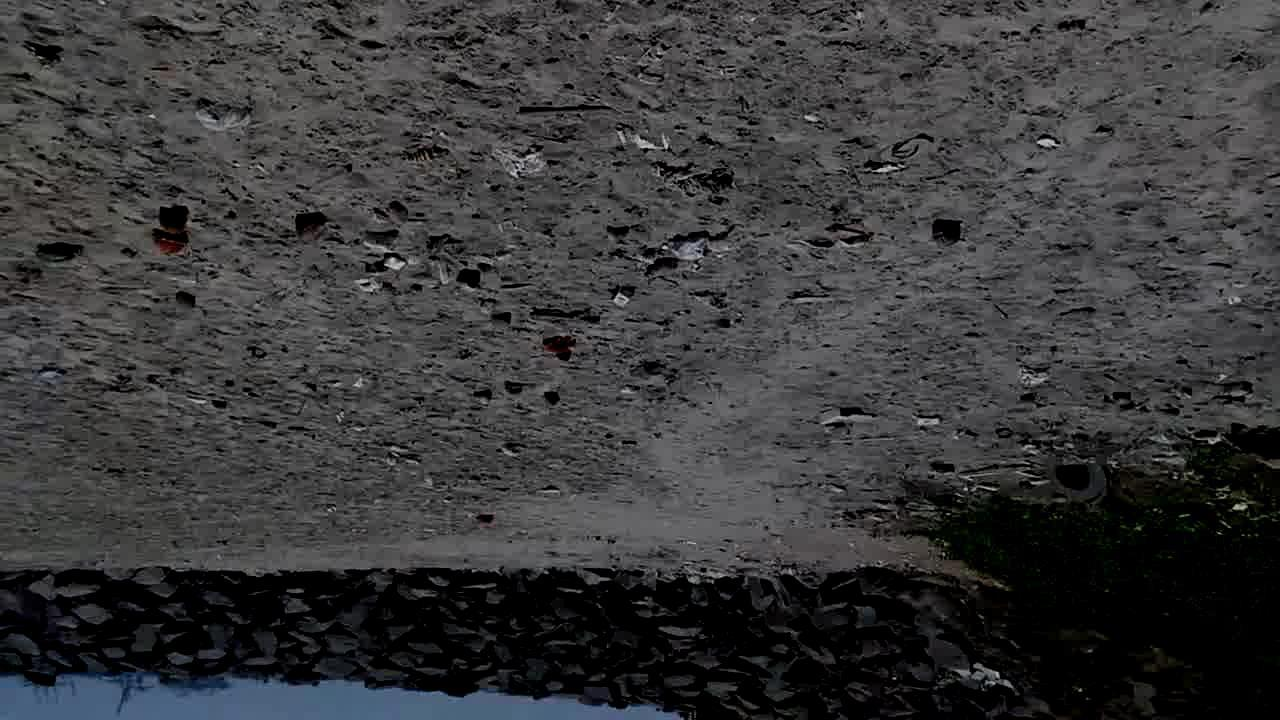large collection of objects: (170, 288, 198, 310), (490, 310, 512, 330), (470, 388, 492, 403)
obj: (905, 421, 1279, 708), (649, 162, 733, 197), (928, 464, 1028, 492), (1052, 457, 1104, 501), (668, 230, 728, 262), (195, 100, 251, 132), (499, 144, 546, 174), (532, 308, 601, 327), (883, 136, 932, 162), (815, 406, 881, 424), (293, 214, 329, 244), (516, 106, 618, 116), (934, 219, 964, 249), (1018, 366, 1058, 388), (158, 208, 186, 232), (610, 284, 634, 312), (32, 367, 66, 386), (381, 253, 412, 272), (248, 348, 269, 362)
sand/background: (1, 454, 1279, 718)
